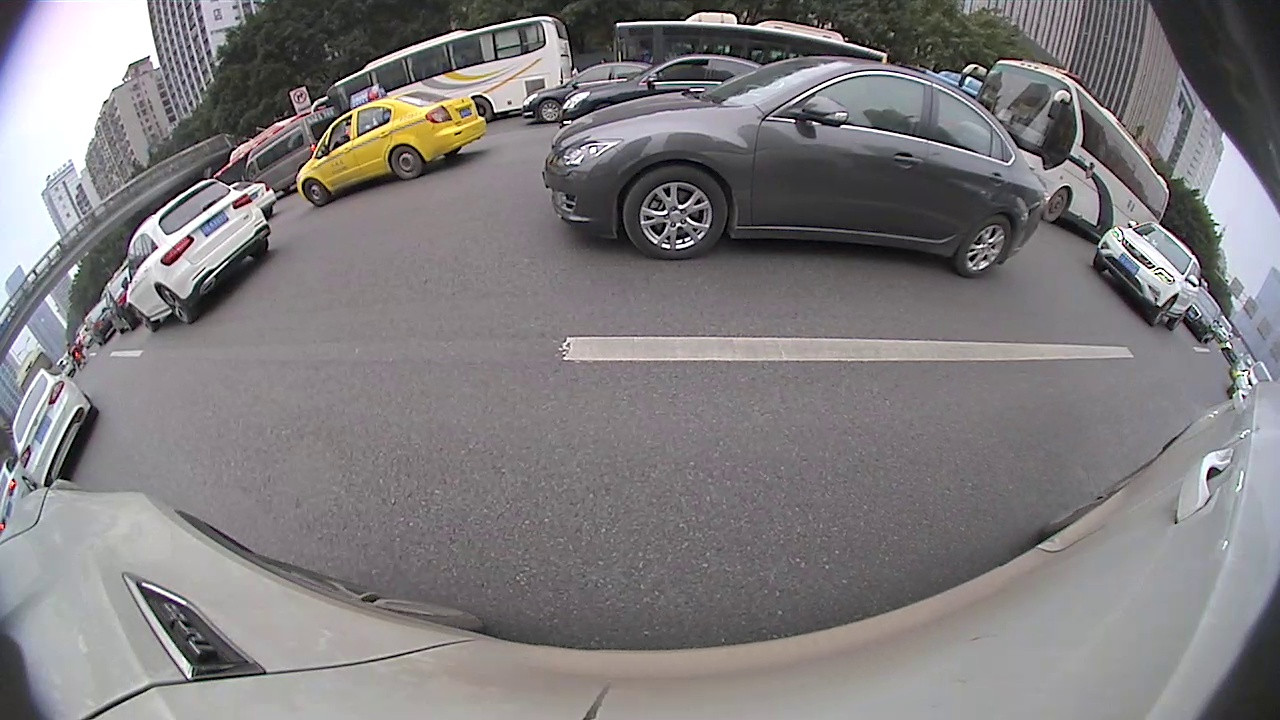bus: (955, 56, 1169, 244), (315, 13, 574, 124), (612, 9, 886, 79), (214, 108, 316, 183), (12, 348, 56, 390)
car: (541, 51, 1049, 278), (120, 175, 278, 330), (299, 91, 485, 209), (563, 52, 769, 130), (1094, 219, 1206, 329), (9, 368, 97, 485), (518, 59, 658, 130), (240, 108, 329, 193), (101, 261, 157, 330), (0, 463, 38, 527), (1187, 289, 1221, 352), (1228, 361, 1277, 403), (81, 304, 120, 346)
front: (625, 163, 727, 259), (1146, 295, 1178, 324), (1044, 189, 1071, 222), (131, 303, 159, 331), (535, 99, 560, 122), (305, 179, 327, 204)
rear: (957, 216, 1013, 277), (159, 284, 192, 323), (389, 146, 421, 179), (1167, 306, 1192, 328), (472, 95, 493, 120)
